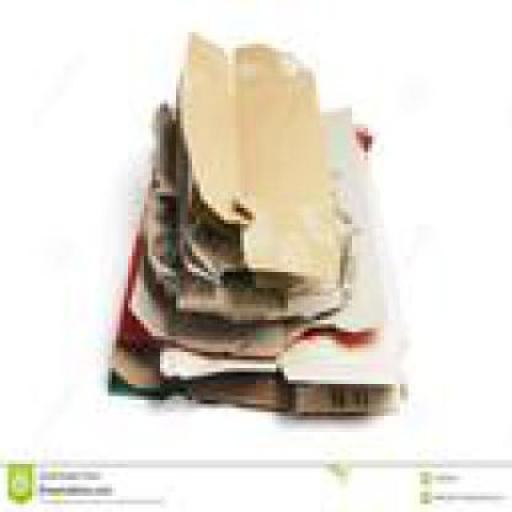cardboard: (111, 100, 376, 368), (104, 188, 401, 412), (172, 32, 328, 288)
